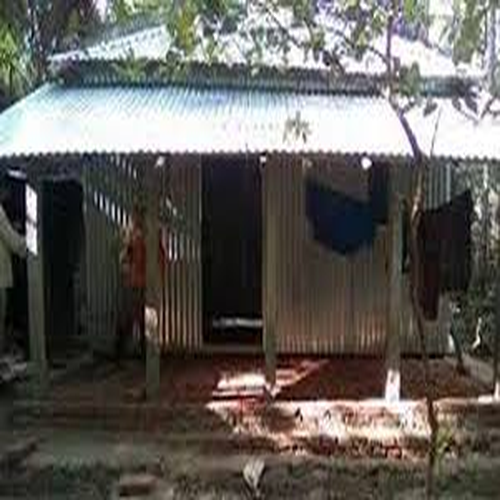Tin-shade House: (20, 29, 490, 388)
